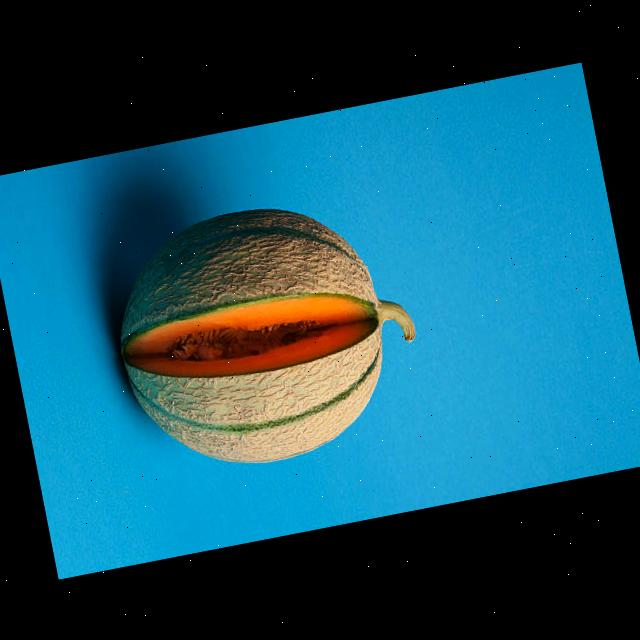Hami Melon: (98, 182, 436, 486)
